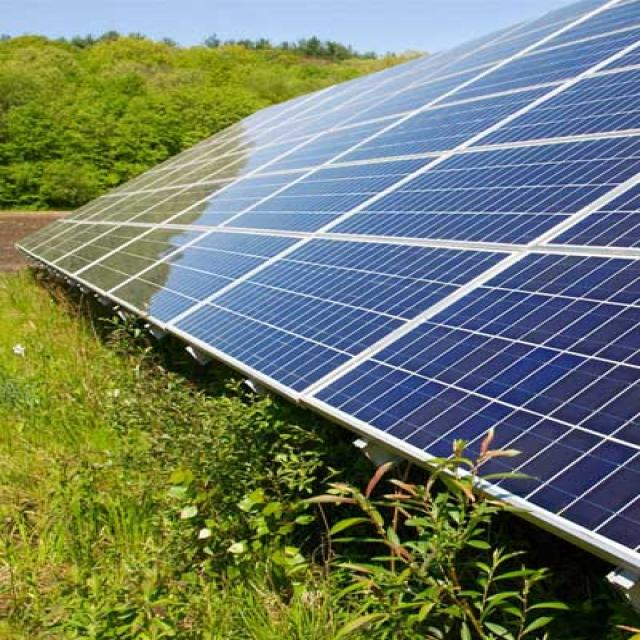clean-solar-panel: (20, 0, 638, 571)
